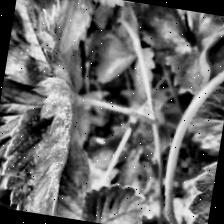Powdery Mildew Leaf: (0, 70, 81, 217)
